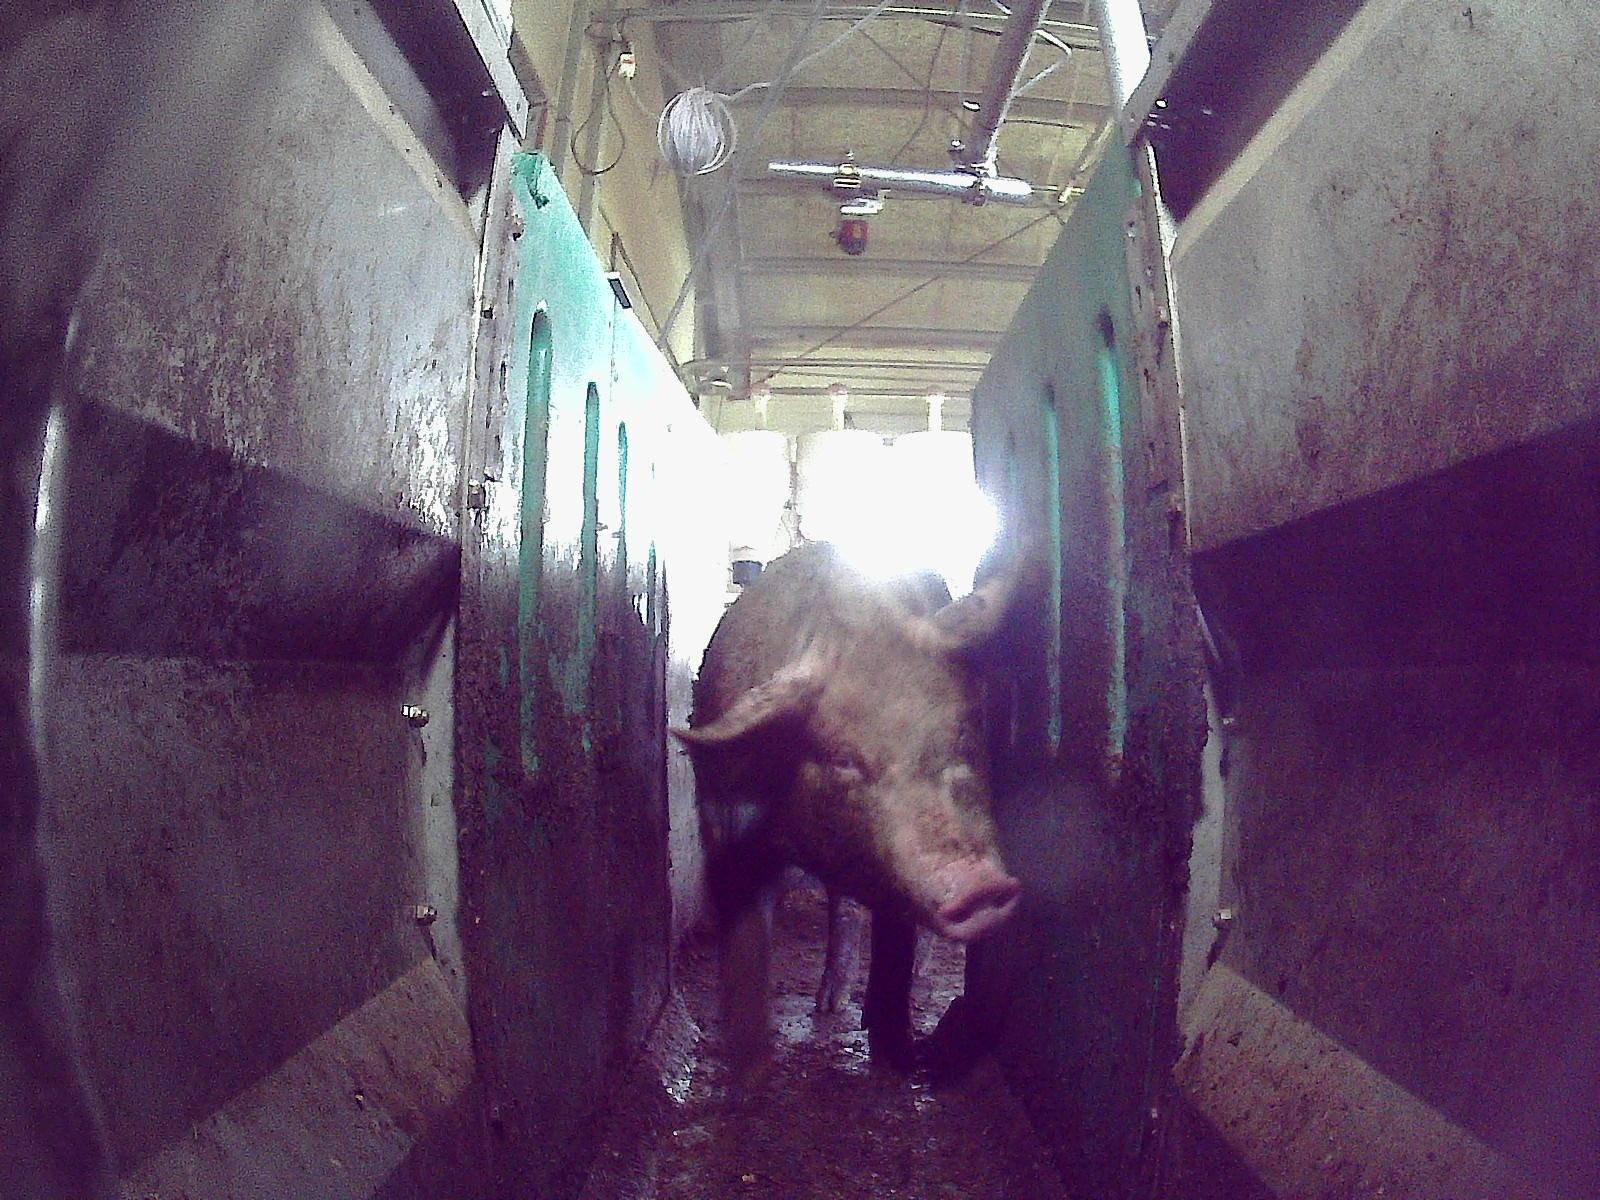Face: (800, 618, 1023, 940)
